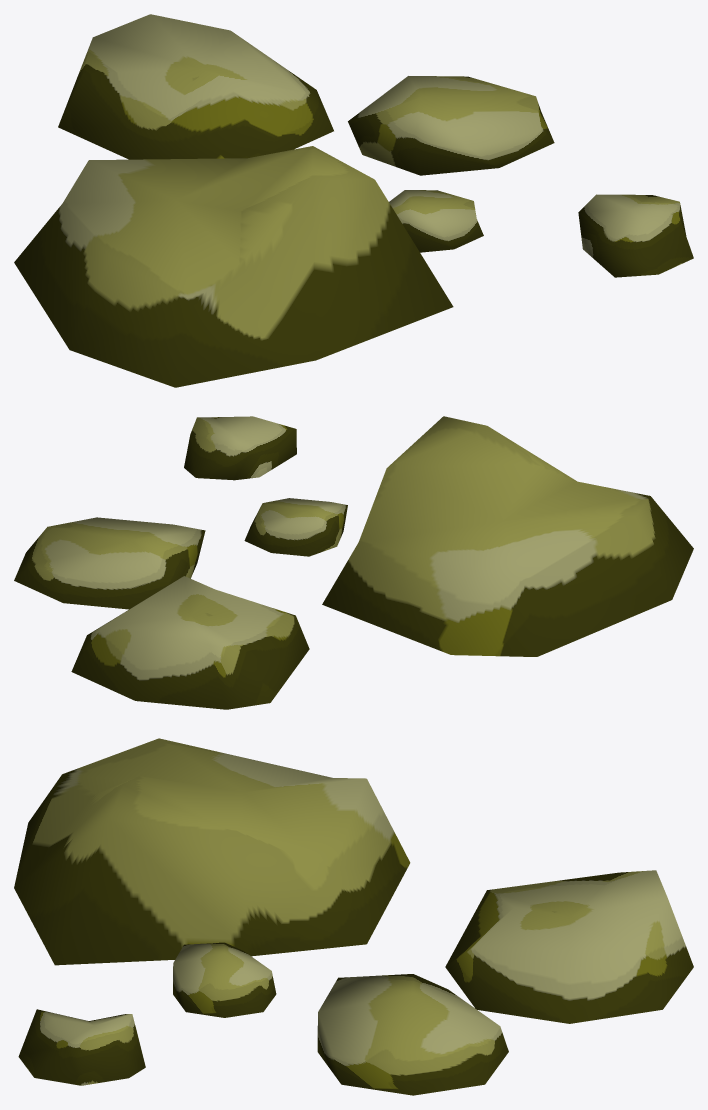
The model's file is Rock 6x 6 5_preview_3DS_simplified.glb.
The picture shows the model from 3 angles, top to bottom: view 1: azimuth 30°, elevation 25°; view 2: azimuth 150°, elevation 25°; view 3: azimuth 270°, elevation 25°; orthographic projection. The views are drawn at different scales.
Parts seen in each view (by area): view 1: Marine Park Empire model; view 2: Marine Park Empire model; view 3: Marine Park Empire model.
Boxes of the visible parts, x1,y1,x2,y2 form: Marine Park Empire model: (14,14,693,387); Marine Park Empire model: (14,416,693,709); Marine Park Empire model: (14,738,693,1095).
Bounding box in the file's own units: 194 × 39.56 × 190.
1 material, 1 textured.
